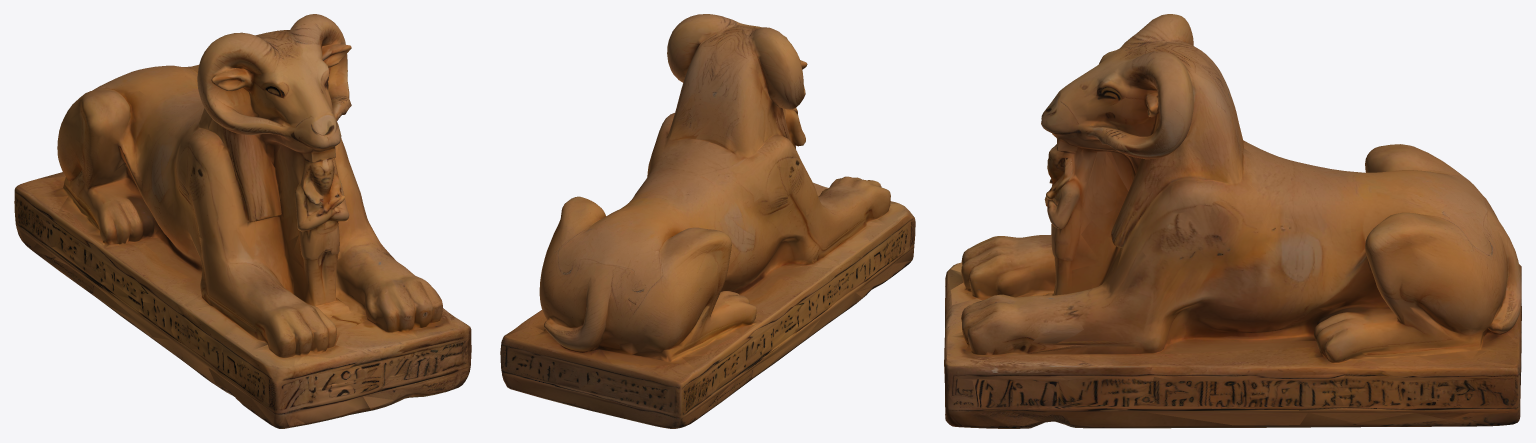
The model's file is kabsh.fbx.
The picture shows the model from 3 angles, left to right: view 1: azimuth 30°, elevation 25°; view 2: azimuth 150°, elevation 25°; view 3: azimuth 270°, elevation 25°; orthographic projection. The views are drawn at different scales.
Parts seen in each view (by area): view 1: tripo_node_42de5ef2; view 2: tripo_node_42de5ef2; view 3: tripo_node_42de5ef2.
Boxes of the visible parts, x1,y1,x2,y2 form: tripo_node_42de5ef2: (14,14,471,428); tripo_node_42de5ef2: (500,14,915,428); tripo_node_42de5ef2: (944,14,1521,428).
Size of the model in its own units: 44.29 by 65.63 by 100.
1 material, 1 textured.
